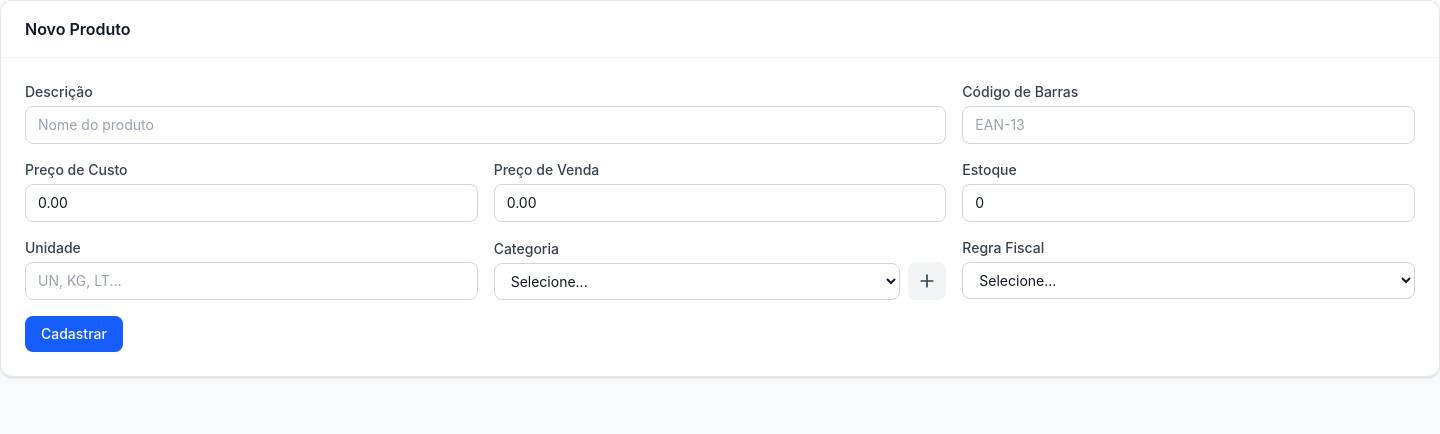
Test: ProdutoForm › should show validation errors for categoria and regra fiscal when submitting empty
This screenshot has width=1440, height=434.
What coordinates should you click on to do the following:
click the button "Cadastrar"
I would click on:
 (74, 334)
Its box is [25,316,123,352].
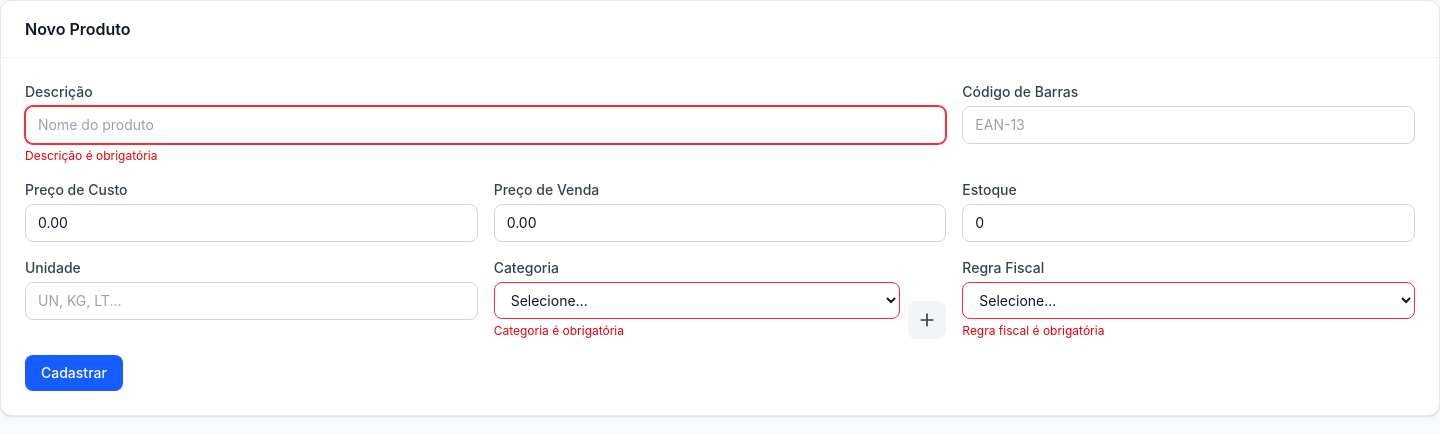
Expected: the text "Categoria é obrigatória" is shown, [494,323,624,338]
Expected: the text "Regra fiscal é obrigatória" is shown, [962,323,1104,338]
